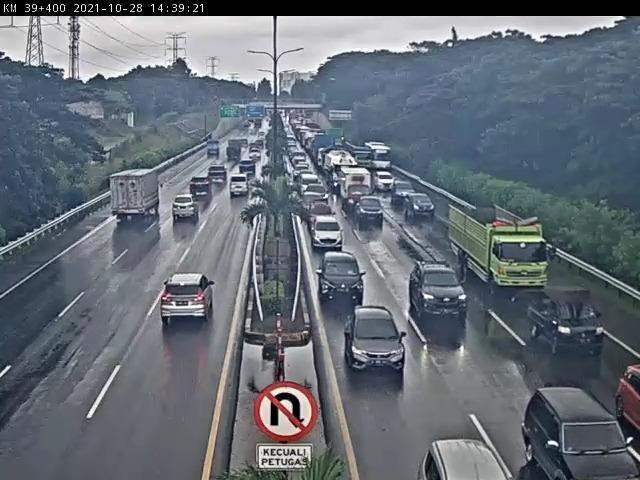bus: (367, 142, 396, 173)
car: (523, 380, 640, 480), (525, 290, 607, 356), (340, 298, 404, 373), (406, 251, 468, 324), (157, 264, 218, 335), (314, 247, 368, 303), (310, 214, 345, 253), (167, 192, 200, 228), (356, 194, 384, 229), (403, 190, 436, 218), (390, 177, 417, 207), (299, 193, 328, 219), (306, 181, 333, 207), (187, 178, 212, 201), (374, 170, 397, 193), (226, 178, 249, 201), (297, 173, 322, 194), (207, 166, 228, 188), (312, 201, 334, 222), (239, 159, 257, 175)
truck: (446, 193, 556, 295), (107, 168, 168, 223), (337, 164, 375, 214), (348, 143, 375, 171)
